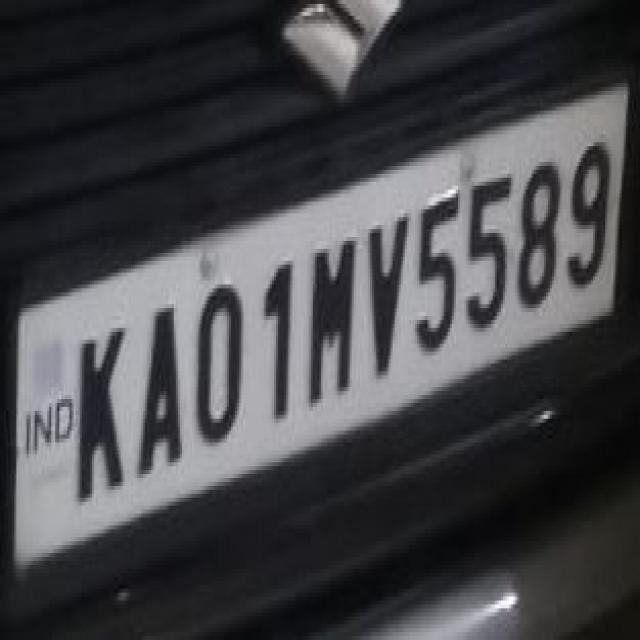0: (197, 280, 249, 447)
1: (257, 247, 297, 429)
5: (416, 178, 462, 367), (468, 167, 514, 335)
8: (521, 157, 563, 320)
9: (567, 142, 616, 304)
A: (137, 280, 190, 482)
K: (70, 319, 133, 515)
M: (304, 237, 360, 404)
V: (366, 210, 410, 386)
